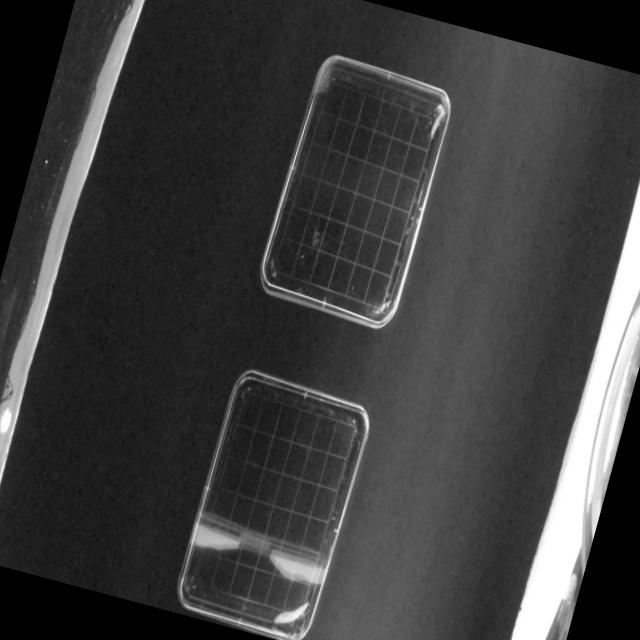larva: (271, 593, 310, 633), (427, 102, 448, 140)
